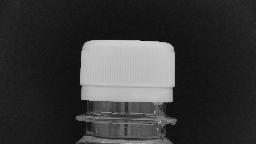Loose Cap: (71, 79, 179, 127)
